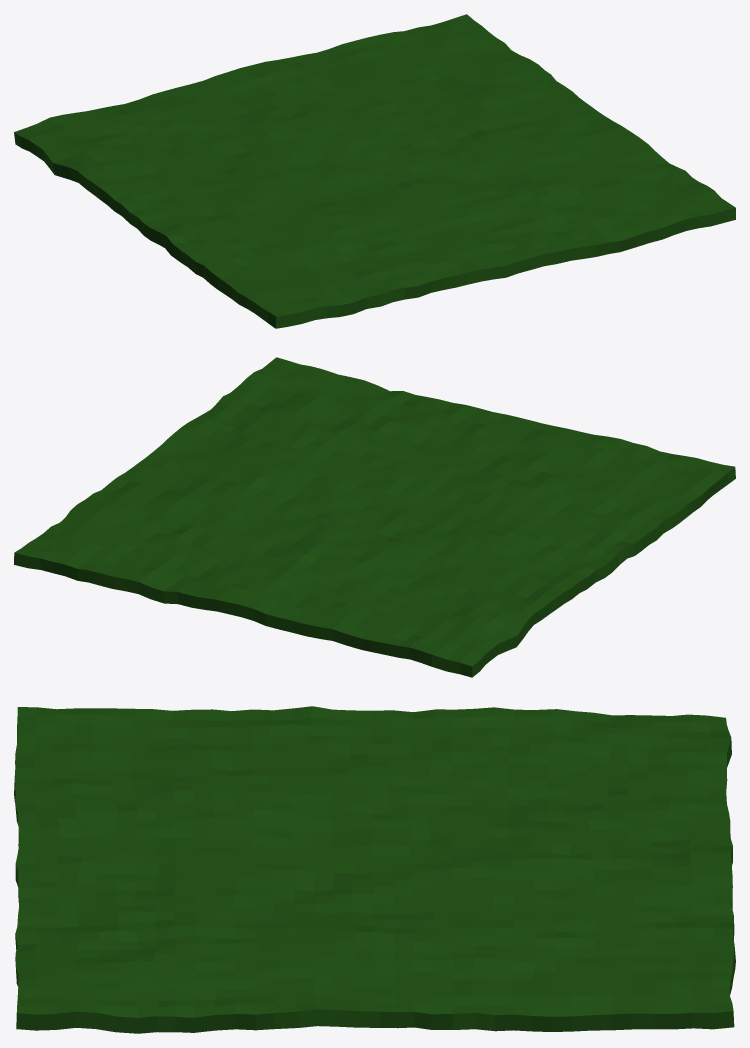
Rendered from landscape.fbx.
3 renders of one model, top to bottom at view 1: azimuth 30°, elevation 25°; view 2: azimuth 150°, elevation 25°; view 3: azimuth 270°, elevation 25°, orthographic. The views are drawn at different scales.
Parts seen in each view (by area): view 1: Plane; view 2: Plane; view 3: Plane.
Boxes of the visible parts, left/top/right/bottom form: Plane: left=14, top=14, right=735, bottom=328; Plane: left=14, top=357, right=735, bottom=677; Plane: left=14, top=706, right=735, bottom=1033.
Size of the model in its own units: 20262 by 914 by 20273.
